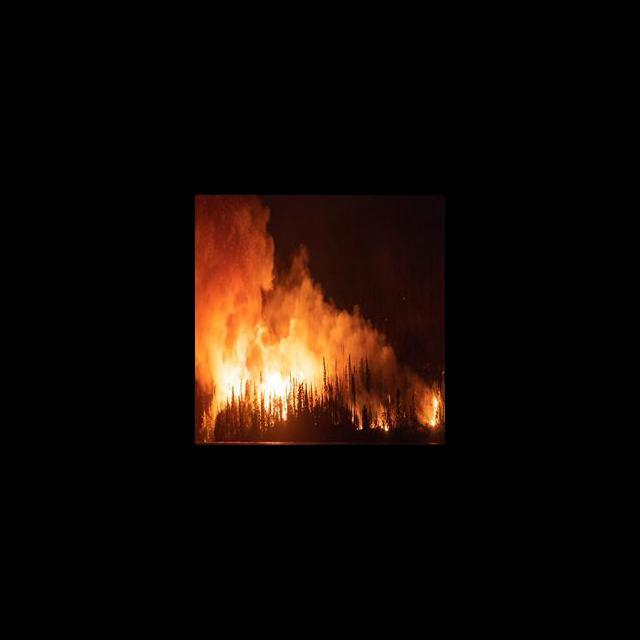Fire: (220, 352, 322, 421), (428, 392, 440, 428)
